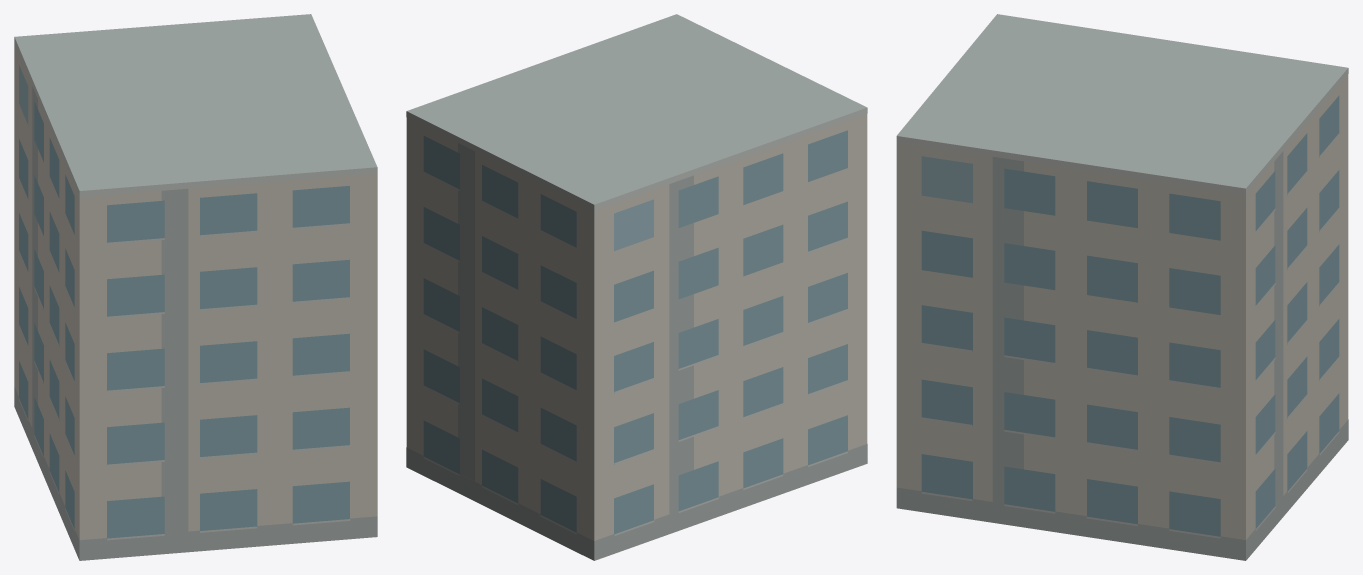
The model's file is survey-upis-32891715.glb.
The picture shows the model from 3 angles, left to right: view 1: azimuth 30°, elevation 25°; view 2: azimuth 150°, elevation 25°; view 3: azimuth 270°, elevation 25°; orthographic projection. The views are drawn at different scales.
Parts seen in each view (by area): view 1: survey-upis-32891715.tmp; view 2: survey-upis-32891715.tmp; view 3: survey-upis-32891715.tmp.
Boxes of the visible parts, left/top/right/bottom form: survey-upis-32891715.tmp: left=14, top=14, right=377, bottom=560; survey-upis-32891715.tmp: left=406, top=14, right=867, bottom=560; survey-upis-32891715.tmp: left=896, top=14, right=1348, bottom=560.
Size of the model in its own units: 14.38 by 14.3 by 15.74.
